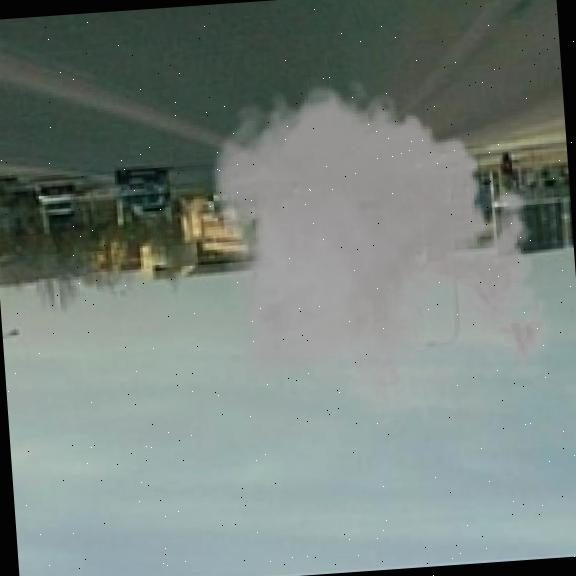smoke: (194, 58, 563, 438)
